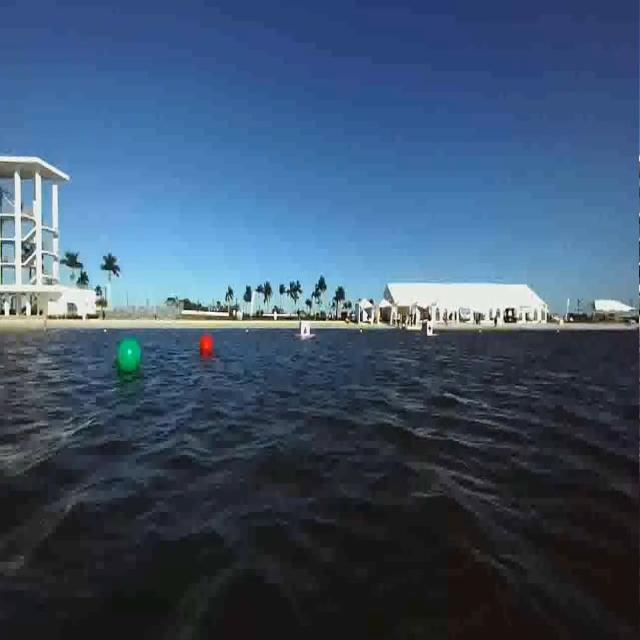green-buoy: (115, 336, 142, 374)
red-buoy: (201, 336, 214, 354)
